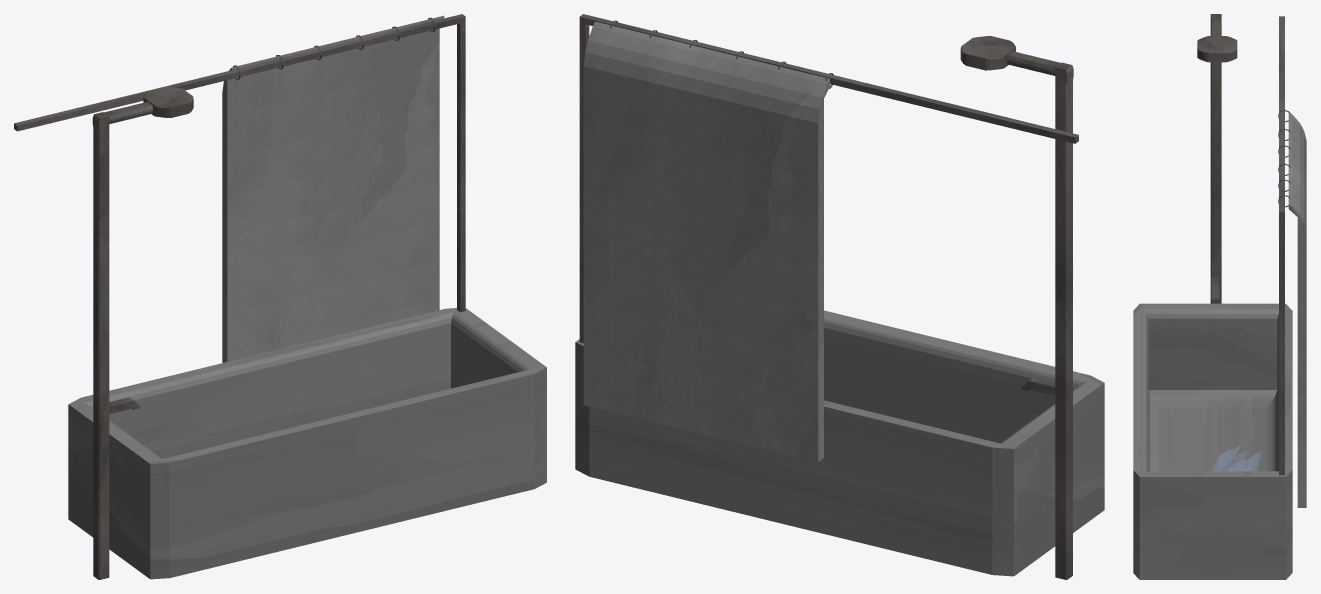
The model's file is M-Bathtub.fbx.
3 views of the same model, side by side, from view 1: azimuth 30°, elevation 25°; view 2: azimuth 150°, elevation 25°; view 3: azimuth 270°, elevation 25° (orthographic). The views are drawn at different scales.
Parts seen in each view (by area): view 1: Cube, Cube.002, Cube.003; view 2: Cube.002, Cube, Cube.003; view 3: Cube, Cube.003, Cube.002.
Boxes of the visible parts, bbox=[...] form: Cube: bbox=[68, 308, 546, 579]; Cube.002: bbox=[222, 15, 444, 362]; Cube.003: bbox=[14, 14, 465, 579]; Cube.002: bbox=[583, 21, 830, 462]; Cube: bbox=[575, 310, 1104, 576]; Cube.003: bbox=[579, 14, 1078, 579]; Cube: bbox=[1133, 303, 1292, 579]; Cube.003: bbox=[1197, 14, 1284, 475]; Cube.002: bbox=[1288, 113, 1306, 507].
Size of the model in its own units: 205 by 76.26 by 201.
4 materials, 4 textured.
